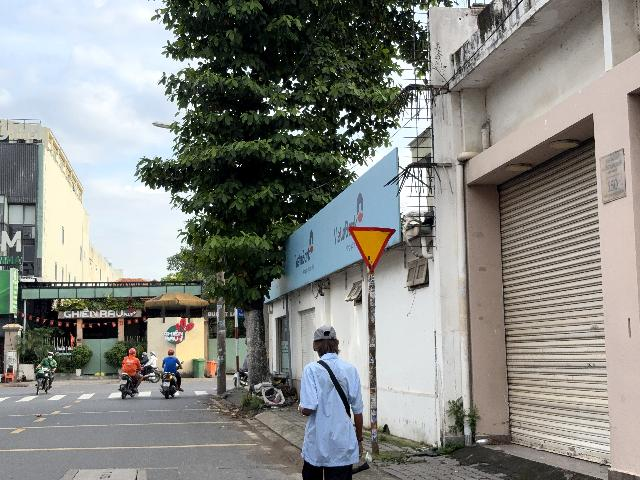giao-nhau-voi-duong-uu-tien: (347, 226, 396, 272)
